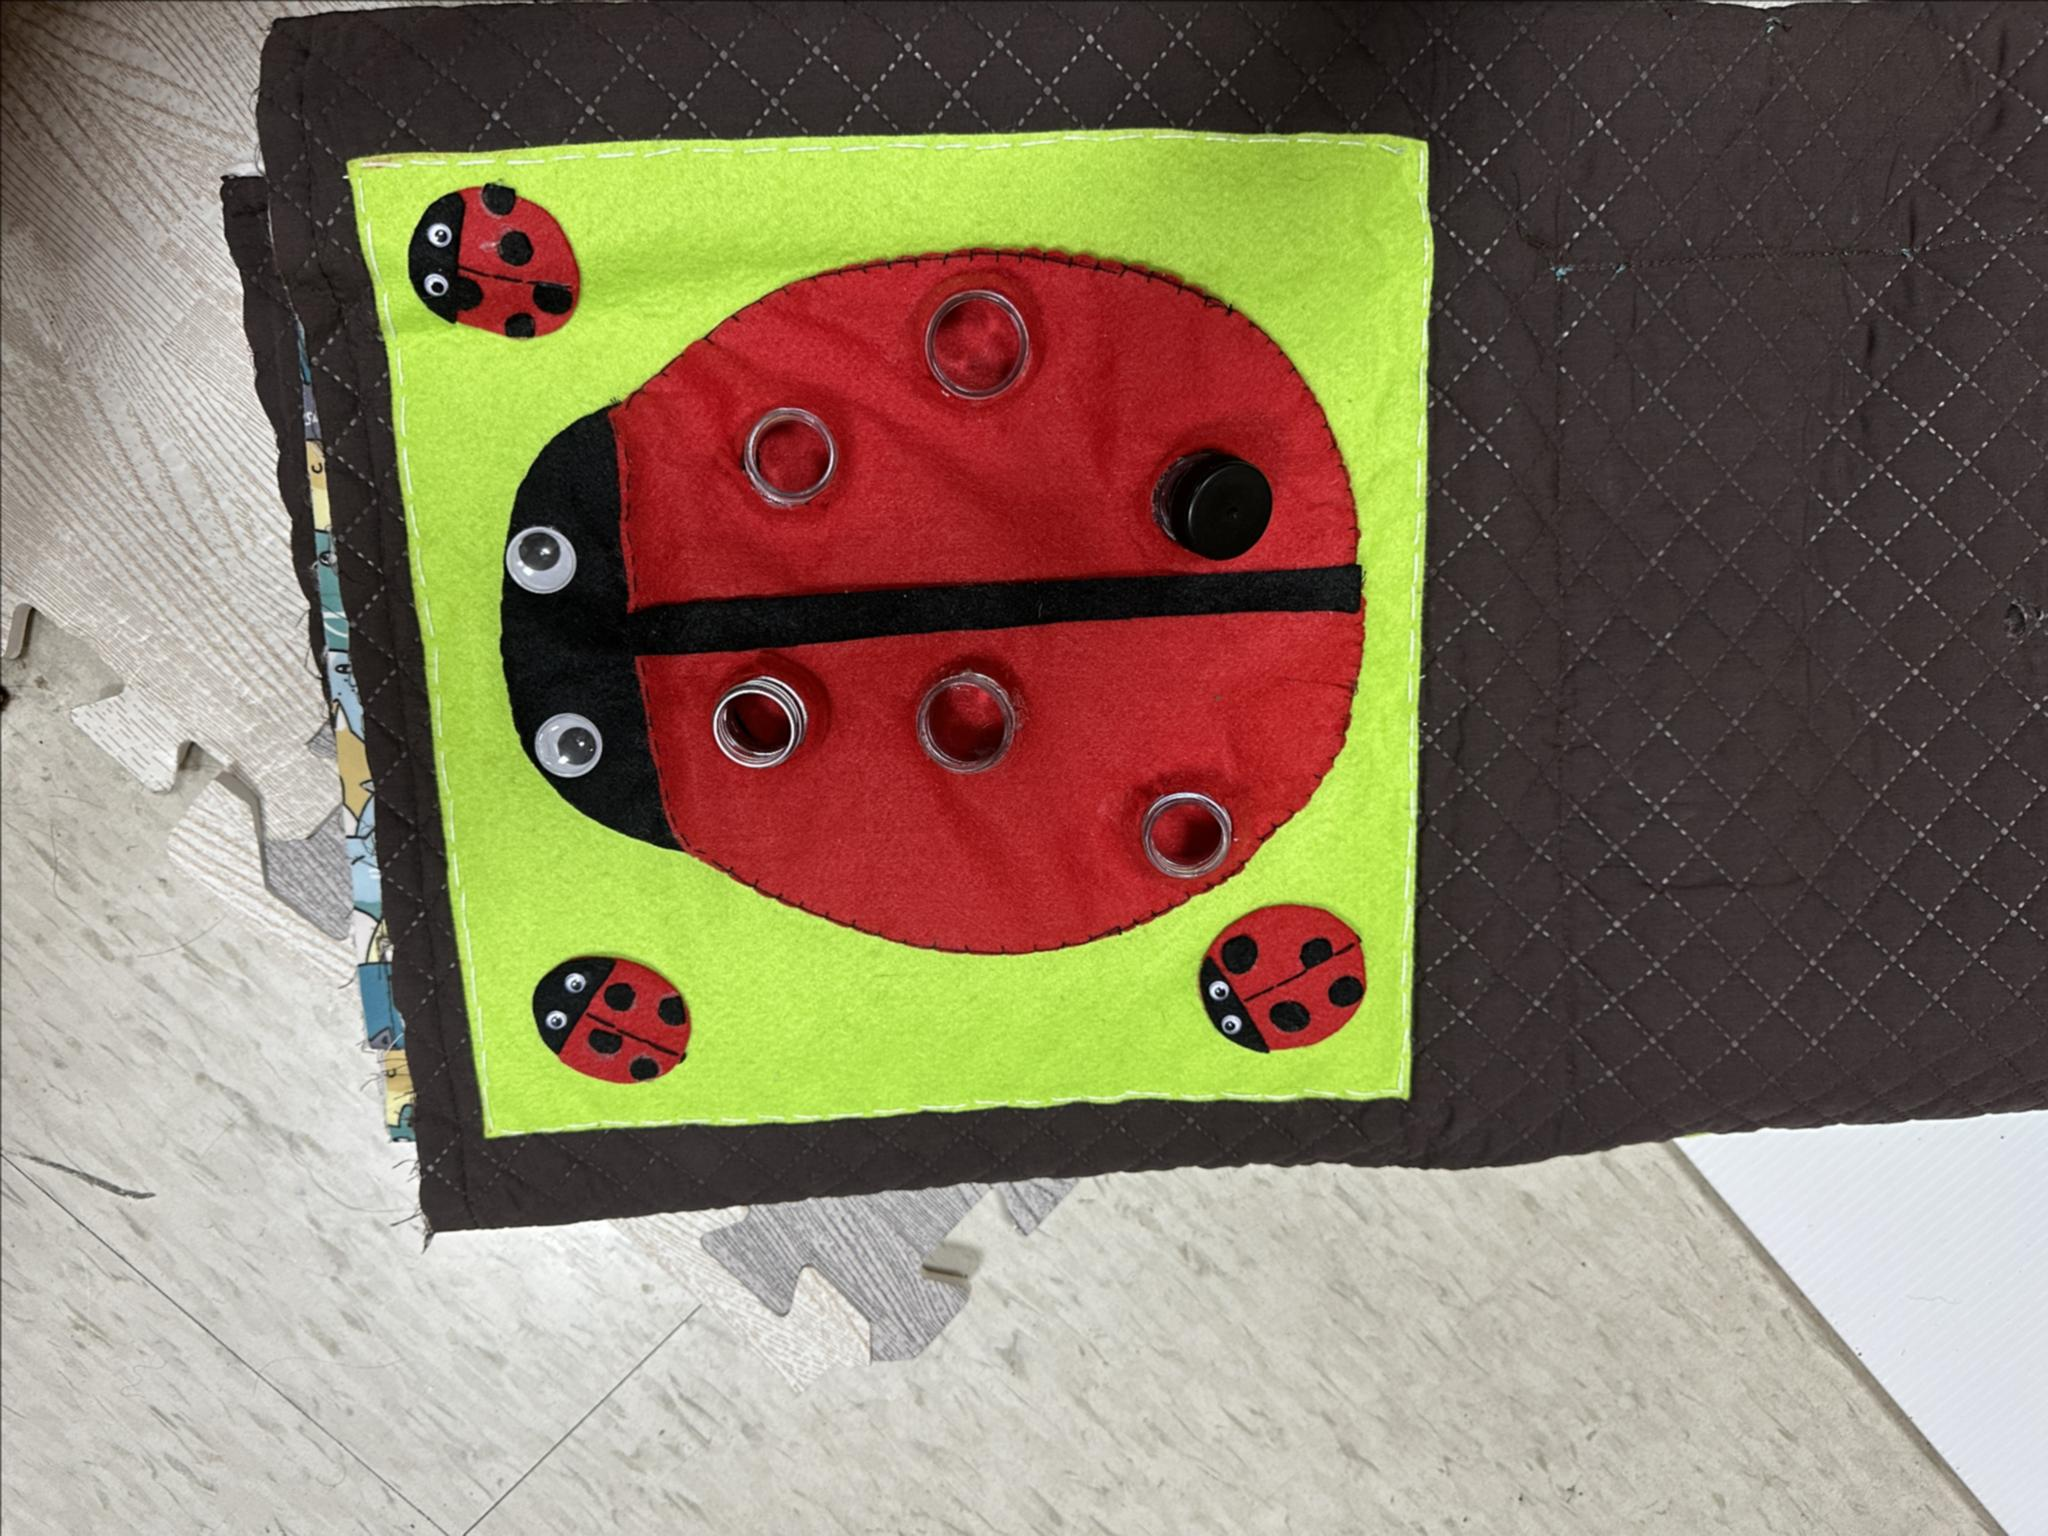cap_ng: (1135, 434, 1280, 576)
